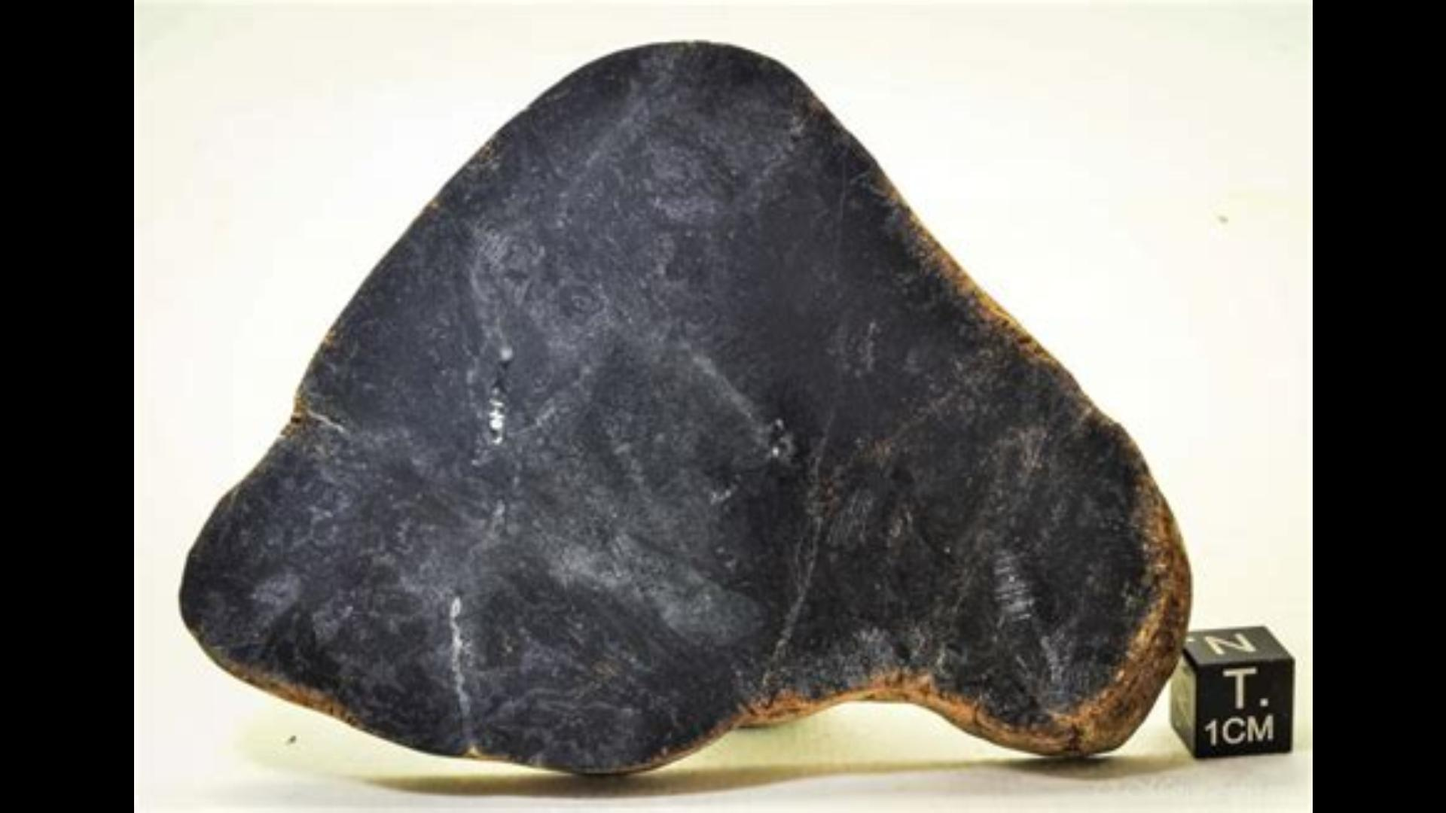rock: (181, 45, 1188, 766)
